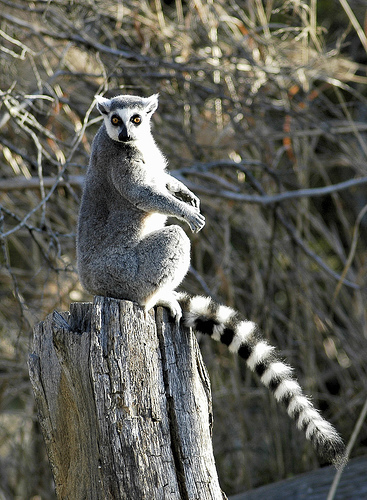cat: (75, 95, 345, 471)
